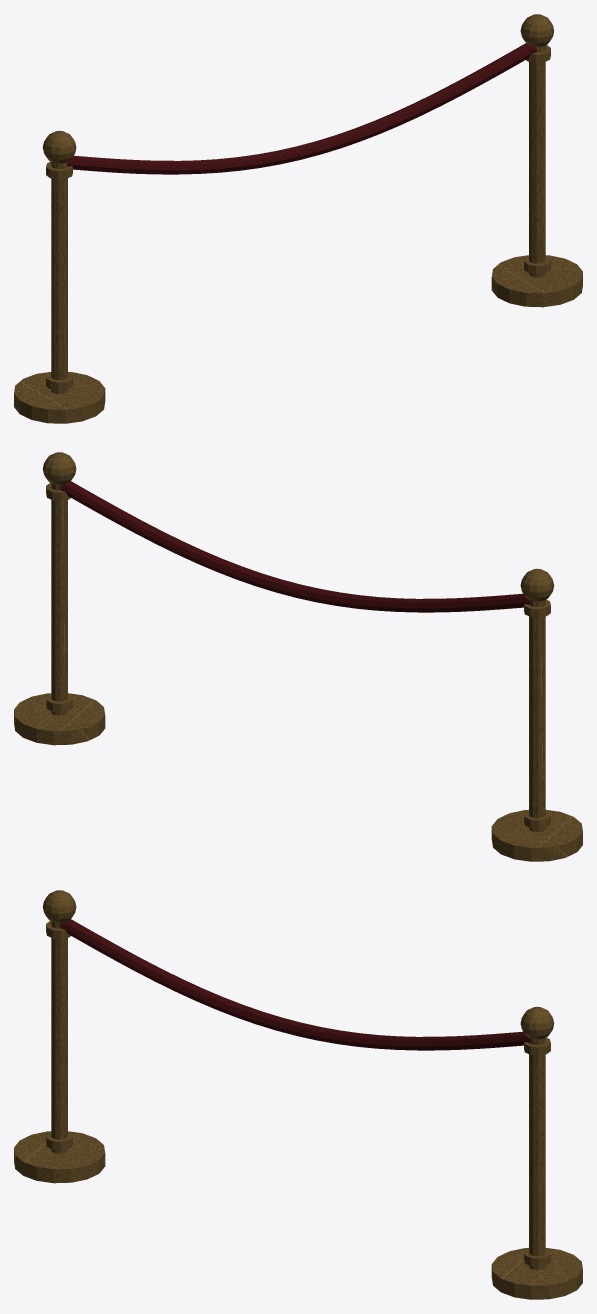
Rendered from old-rope.glb.
3 renders of one model, top to bottom at view 1: azimuth 30°, elevation 25°; view 2: azimuth 150°, elevation 25°; view 3: azimuth 330°, elevation 25°, orthographic.
Parts seen in each view (by area): view 1: Weighted brass foot, Tapered brass stem, Weighted brass foot.001, Tapered brass stem.001, Finial.001, Finial; view 2: Weighted brass foot, Tapered brass stem, Weighted brass foot.001, Tapered brass stem.001, Finial.001, Finial; view 3: Weighted brass foot.001, Tapered brass stem.001, Weighted brass foot, Tapered brass stem, Finial, Finial.001.
Part boxes in pixels (x1=…): Weighted brass foot: x1=14, y1=371, x2=105, y2=423; Tapered brass stem: x1=51, y1=162, x2=67, y2=394; Weighted brass foot.001: x1=491, y1=255, x2=582, y2=307; Tapered brass stem.001: x1=529, y1=45, x2=545, y2=277; Finial.001: x1=520, y1=14, x2=553, y2=47; Finial: x1=42, y1=130, x2=76, y2=163; Weighted brass foot: x1=491, y1=809, x2=582, y2=861; Tapered brass stem: x1=529, y1=600, x2=545, y2=832; Weighted brass foot.001: x1=14, y1=693, x2=105, y2=745; Tapered brass stem.001: x1=51, y1=483, x2=67, y2=715; Finial.001: x1=43, y1=452, x2=76, y2=485; Finial: x1=520, y1=568, x2=554, y2=601; Weighted brass foot.001: x1=491, y1=1247, x2=582, y2=1299; Tapered brass stem.001: x1=529, y1=1038, x2=545, y2=1270; Weighted brass foot: x1=14, y1=1131, x2=105, y2=1183; Tapered brass stem: x1=51, y1=921, x2=67, y2=1153; Finial: x1=43, y1=890, x2=76, y2=923; Finial.001: x1=520, y1=1006, x2=554, y2=1039.
Bounding box in the file's own units: 2.1 × 0.98 × 0.3.
2 materials, 2 textured.
